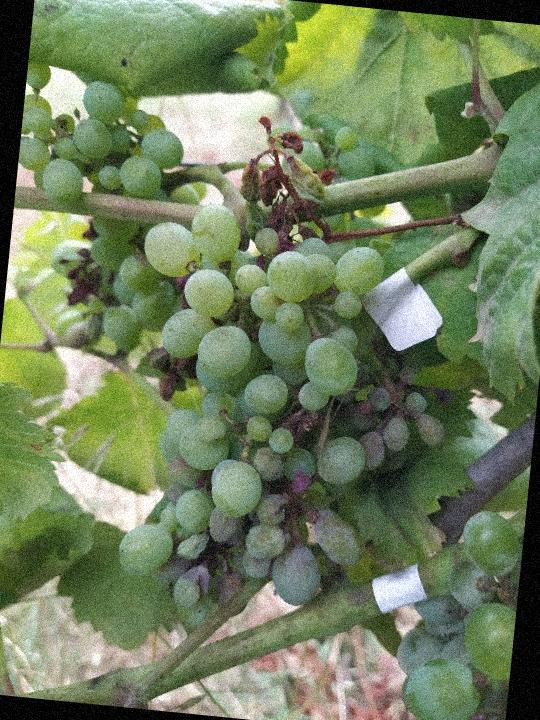grape: (100, 102, 477, 645), (2, 59, 213, 360)
